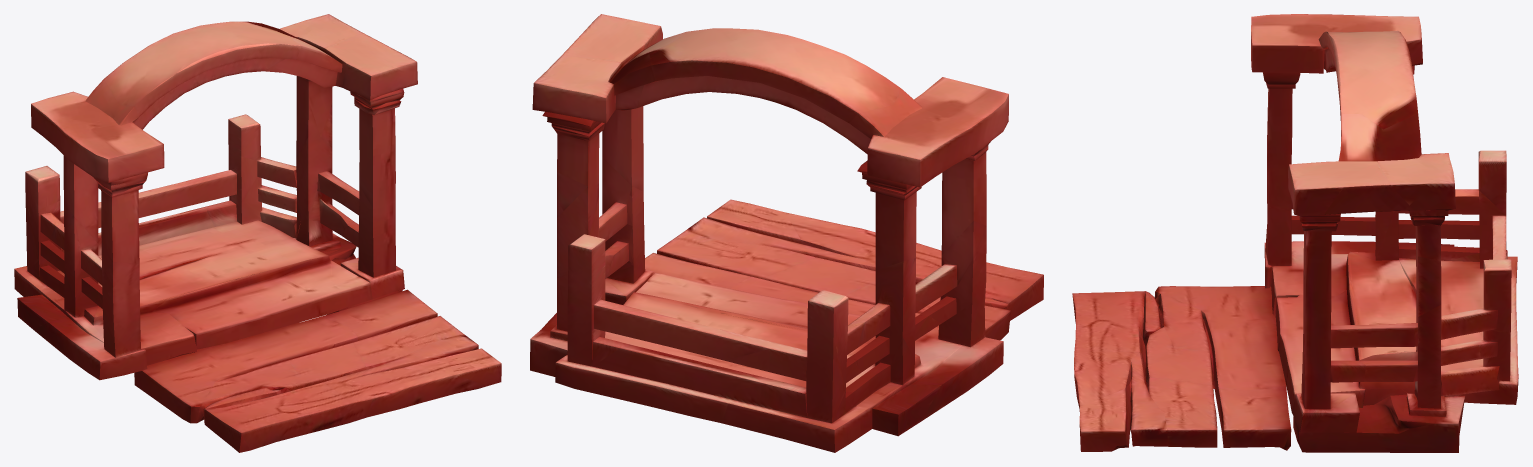
File: m2WoodenBalconyV2.glb
3 views of the same model, side by side, from view 1: azimuth 30°, elevation 25°; view 2: azimuth 150°, elevation 25°; view 3: azimuth 270°, elevation 25° (orthographic). The views are drawn at different scales.
Parts seen in each view (by area): view 1: model; view 2: model; view 3: model.
Part boxes in pixels (x1,y1,x2,y2): model: (14, 14, 501, 452); model: (530, 14, 1043, 452); model: (1072, 14, 1518, 452).
Size of the model in its own units: 1.81 by 1.5 by 1.9.
1 material, 1 textured.
